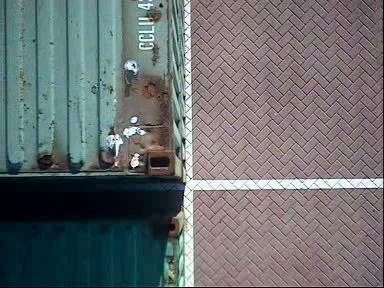groundmarker_2: (19, 165, 118, 215)
